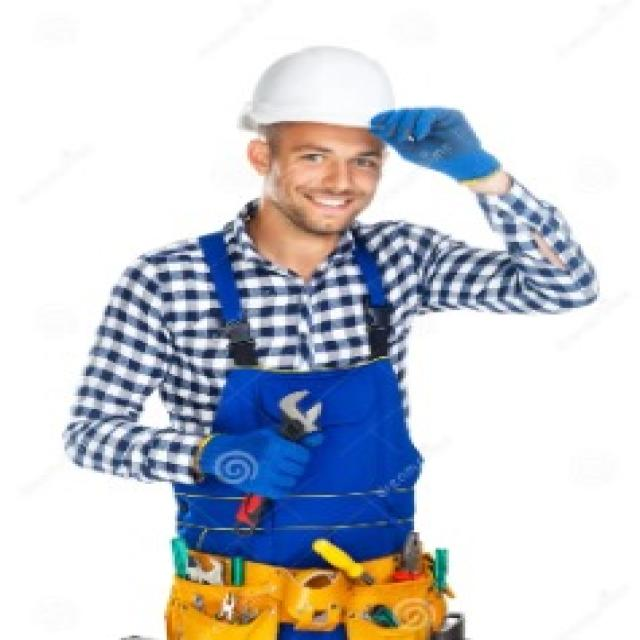gloved: (366, 106, 500, 182), (196, 424, 312, 500)
